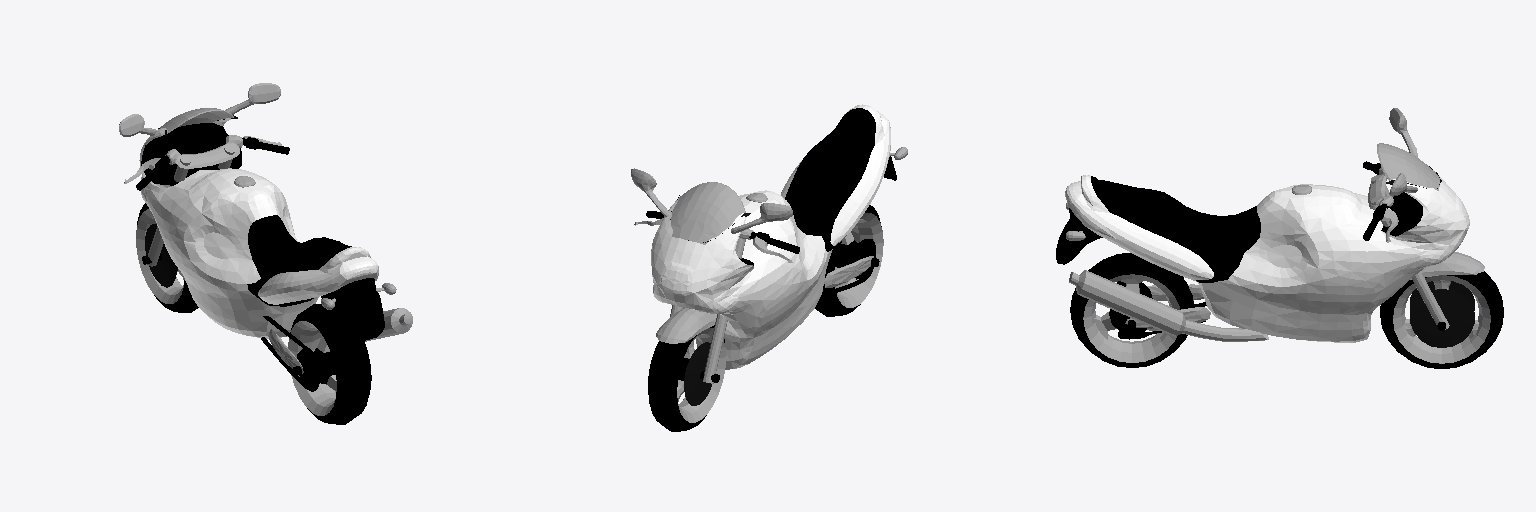
The model's file is Bike_Suzuki_Katana.obj.
3 renders of one model, left to right at view 1: azimuth 30°, elevation 25°; view 2: azimuth 150°, elevation 25°; view 3: azimuth 270°, elevation 25°, orthographic.
Visible parts, largest first — view 1: (null); view 2: (null); view 3: (null).
Part boxes in pixels (x1,y1,x2,y2): (null): (119, 83, 412, 424); (null): (631, 104, 907, 431); (null): (1056, 108, 1503, 368).
Bounding box in the file's own units: 167 × 222 × 400.